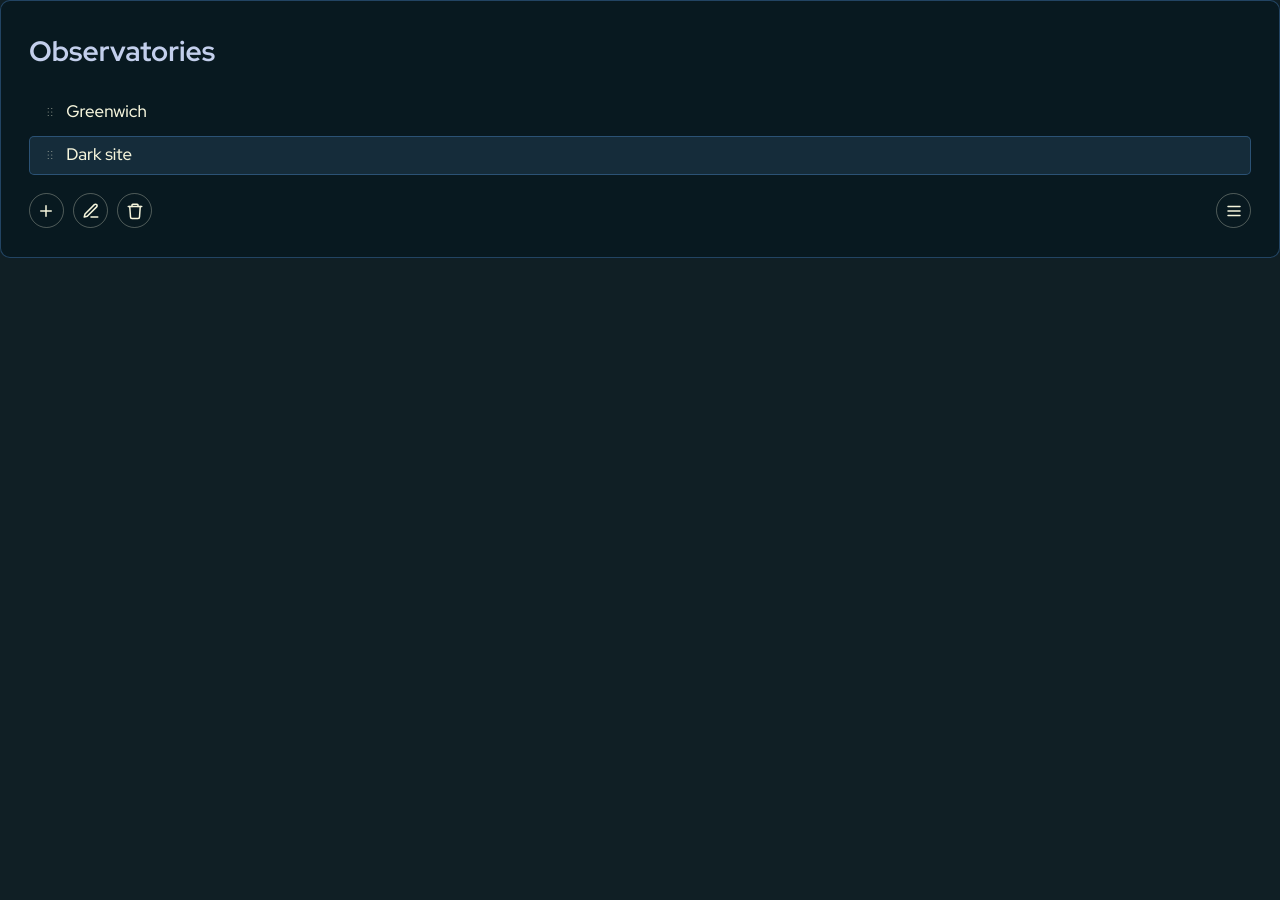
deleting › deletes on confirmation
Expected: the number of options is 2, 29,92 -> 1251,131; 29,136 -> 1251,174
Click the button named "delete observatory" at (135, 211), box 118,193 -> 152,228
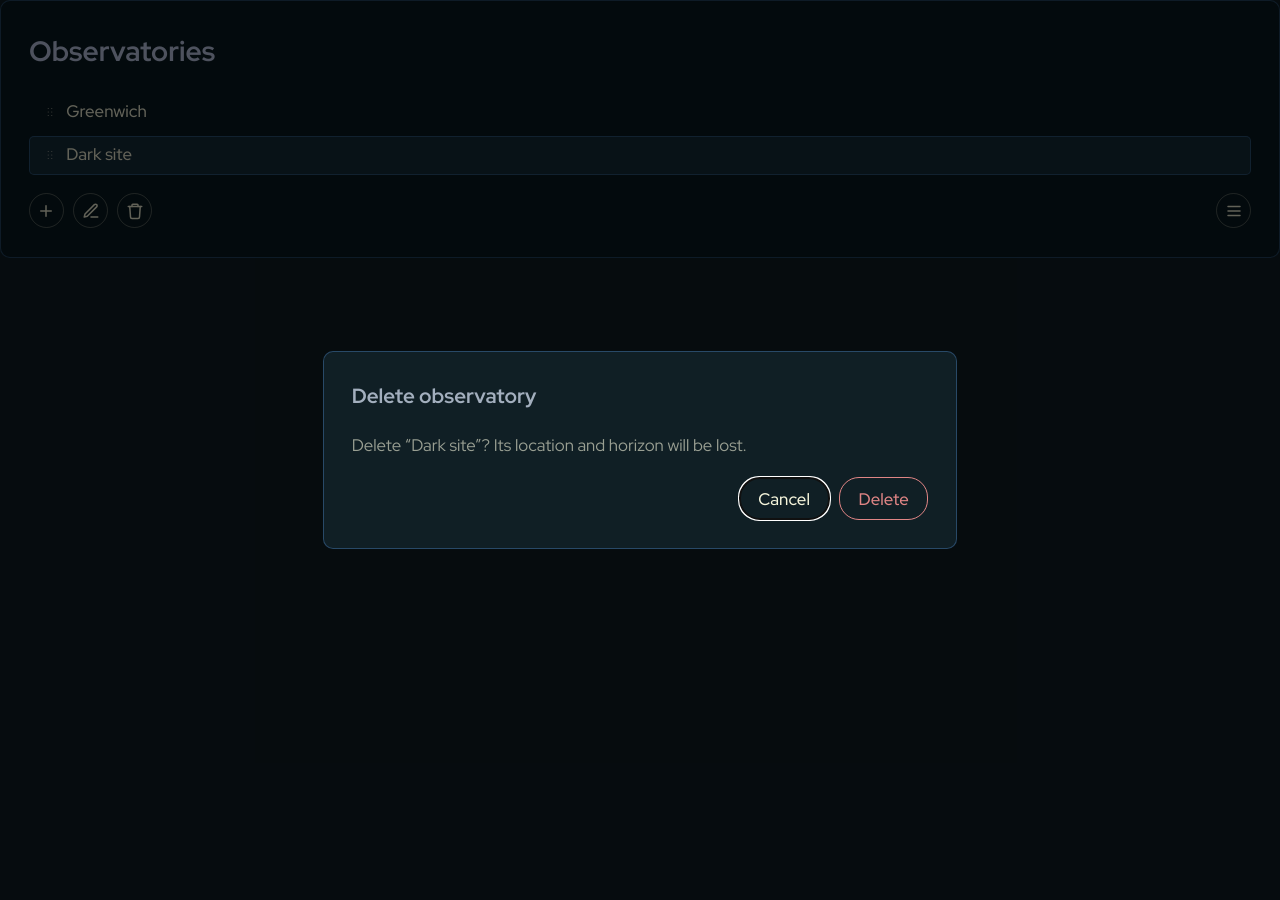
Click the button "Delete" at (884, 499), box 839,477 -> 928,520
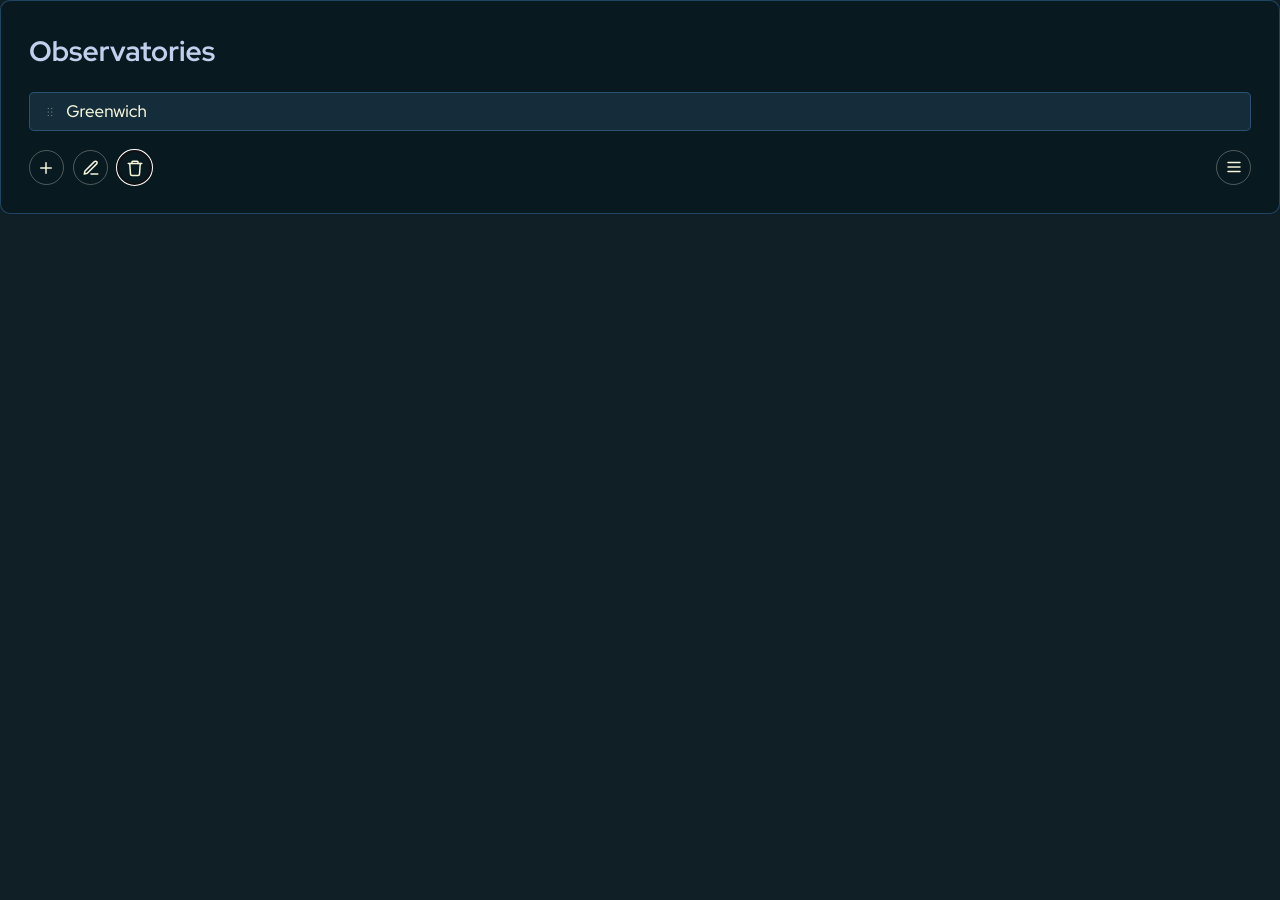
Expected: the text "Greenwich" is shown, 66,101 -> 147,123
Expected: the dialog is gone
